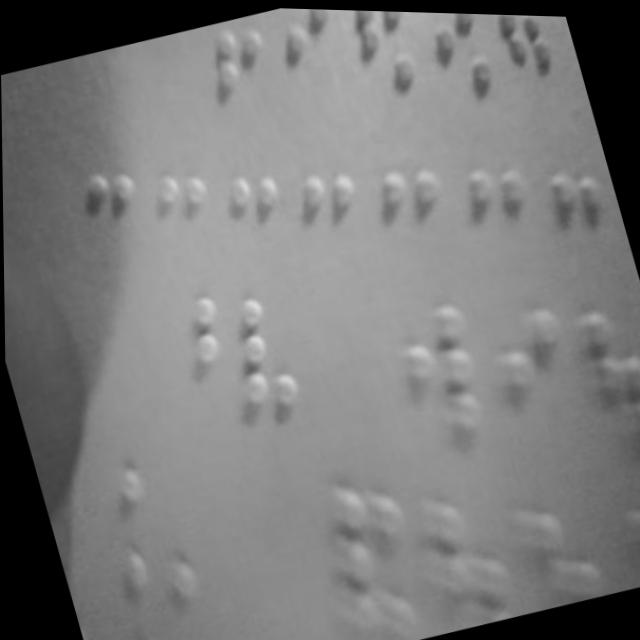braiile: (302, 472, 435, 640), (481, 282, 595, 453), (140, 280, 253, 451), (50, 457, 168, 612), (383, 289, 495, 448), (555, 291, 640, 463), (342, 8, 442, 120), (416, 10, 511, 127), (488, 11, 581, 121), (265, 6, 356, 118)
